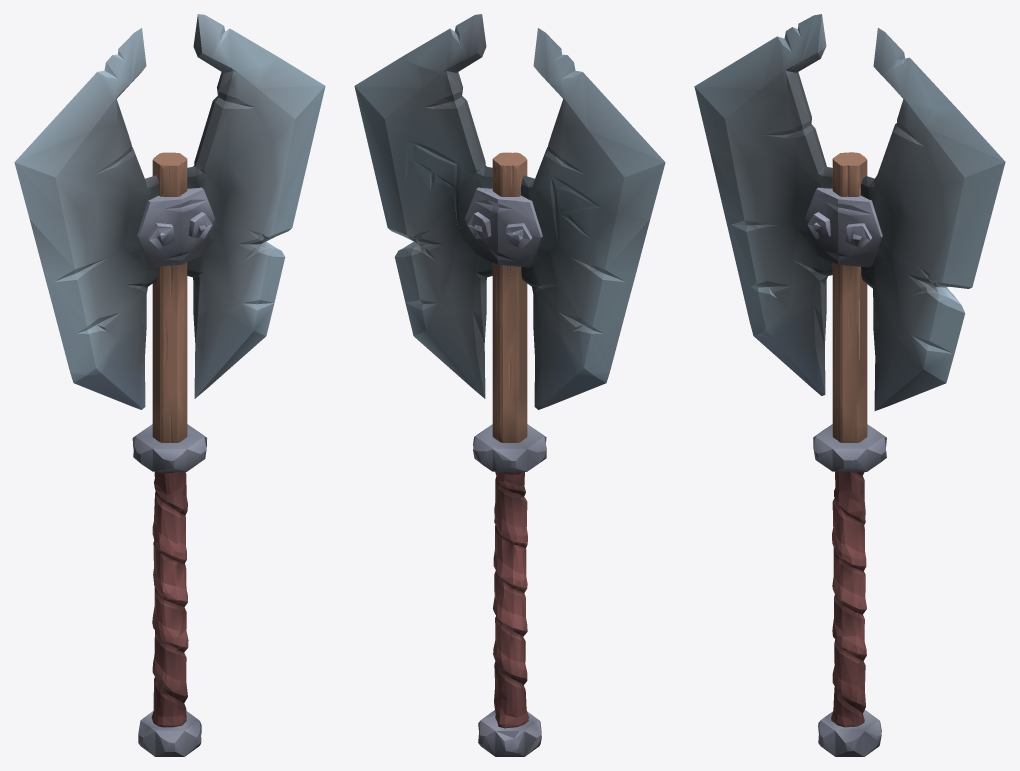
The model's file is epic_FleshRipper_simple.fbx.
The picture shows the model from 3 angles, left to right: view 1: azimuth 30°, elevation 25°; view 2: azimuth 150°, elevation 25°; view 3: azimuth 330°, elevation 25°; orthographic projection.
Visible parts, largest first — view 1: epic_FleshRipper_simple_mesh; view 2: epic_FleshRipper_simple_mesh; view 3: epic_FleshRipper_simple_mesh.
Part boxes in pixels (x1,y1,x2,y2): epic_FleshRipper_simple_mesh: (14,14,325,756); epic_FleshRipper_simple_mesh: (354,14,665,756); epic_FleshRipper_simple_mesh: (694,14,1005,756).
Bounding box in the file's own units: 1.11 × 2.47 × 0.2269.
